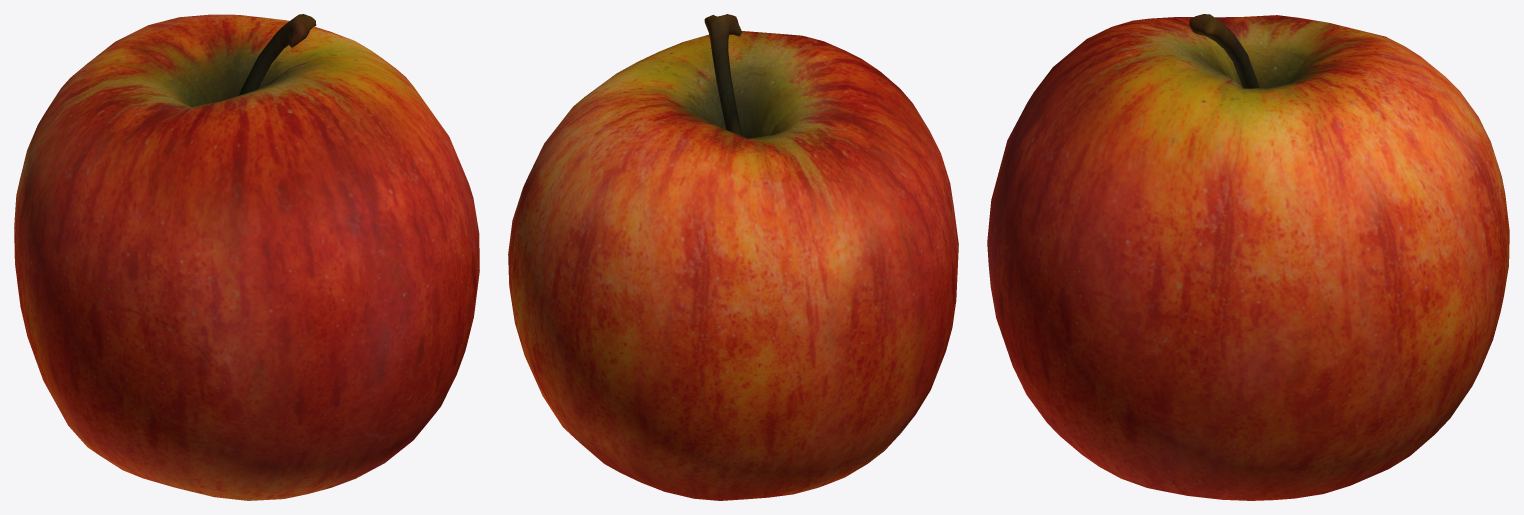
File: apple.glb
The picture shows the model from 3 angles, left to right: view 1: azimuth 30°, elevation 25°; view 2: azimuth 150°, elevation 25°; view 3: azimuth 270°, elevation 25°; orthographic projection. The views are drawn at different scales.
Visible parts, largest first — view 1: apple_low_obj; view 2: apple_low_obj; view 3: apple_low_obj.
Boxes of the visible parts, x1,y1,x2,y2 form: apple_low_obj: (14,14,479,500); apple_low_obj: (508,14,958,500); apple_low_obj: (987,14,1509,500).
Size of the model in its own units: 0.7634 by 0.795 by 0.8214.
Materials: 1 (1 with a texture image).
